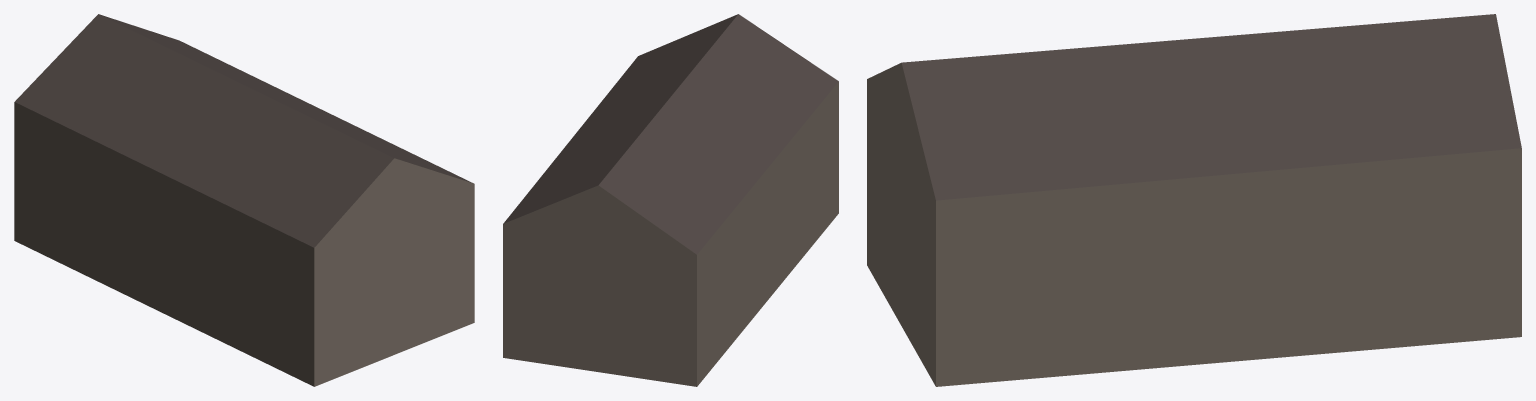
3 views of the same model, side by side, from view 1: azimuth 30°, elevation 25°; view 2: azimuth 150°, elevation 25°; view 3: azimuth 270°, elevation 25° (orthographic). The views are drawn at different scales.
Visible parts, largest first — view 1: HP-w859457418; view 2: HP-w859457418; view 3: HP-w859457418.
Part boxes in pixels (x1=…): HP-w859457418: x1=14, y1=14, x2=474, y2=386; HP-w859457418: x1=503, y1=14, x2=838, y2=386; HP-w859457418: x1=867, y1=14, x2=1521, y2=386.
Bounding box in the file's own units: 17.68 × 12.73 × 28.66.
